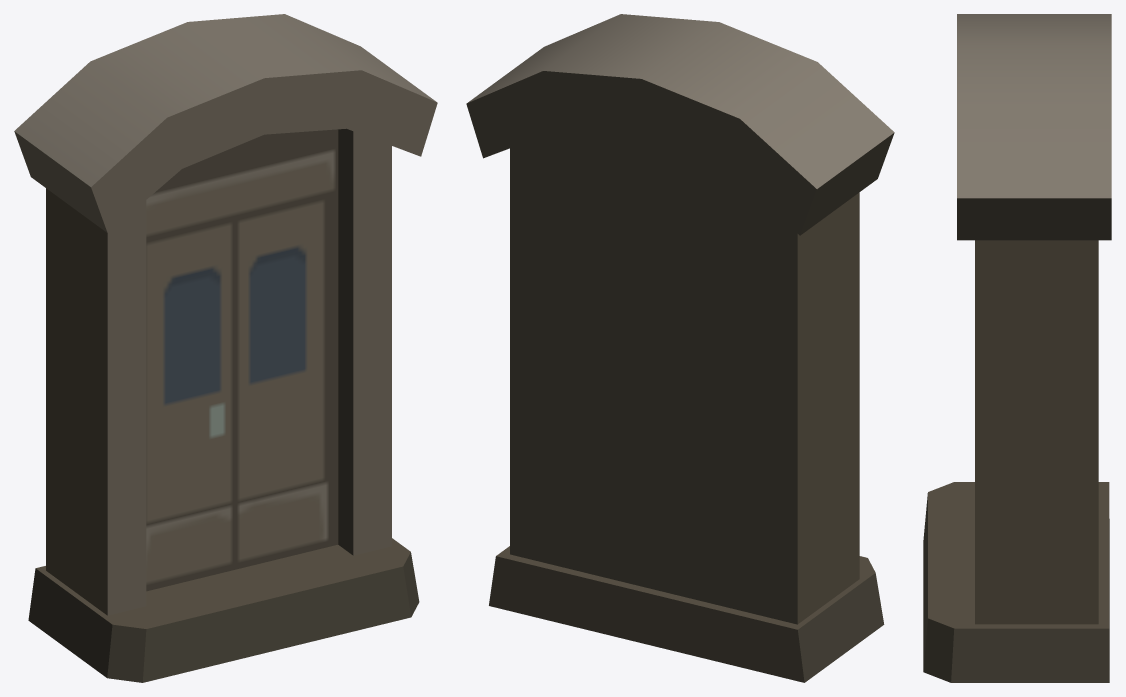
Rendered from Door_C01.fbx.
3 views of the same model, side by side, from view 1: azimuth 30°, elevation 25°; view 2: azimuth 150°, elevation 25°; view 3: azimuth 270°, elevation 25° (orthographic).
Visible parts, largest first — view 1: Door_C01; view 2: Door_C01; view 3: Door_C01.
Boxes of the visible parts, bbox=[...] form: Door_C01: bbox=[14, 14, 437, 682]; Door_C01: bbox=[466, 14, 894, 682]; Door_C01: bbox=[923, 14, 1111, 682].
Size of the model in its own units: 245 by 377 by 114.
